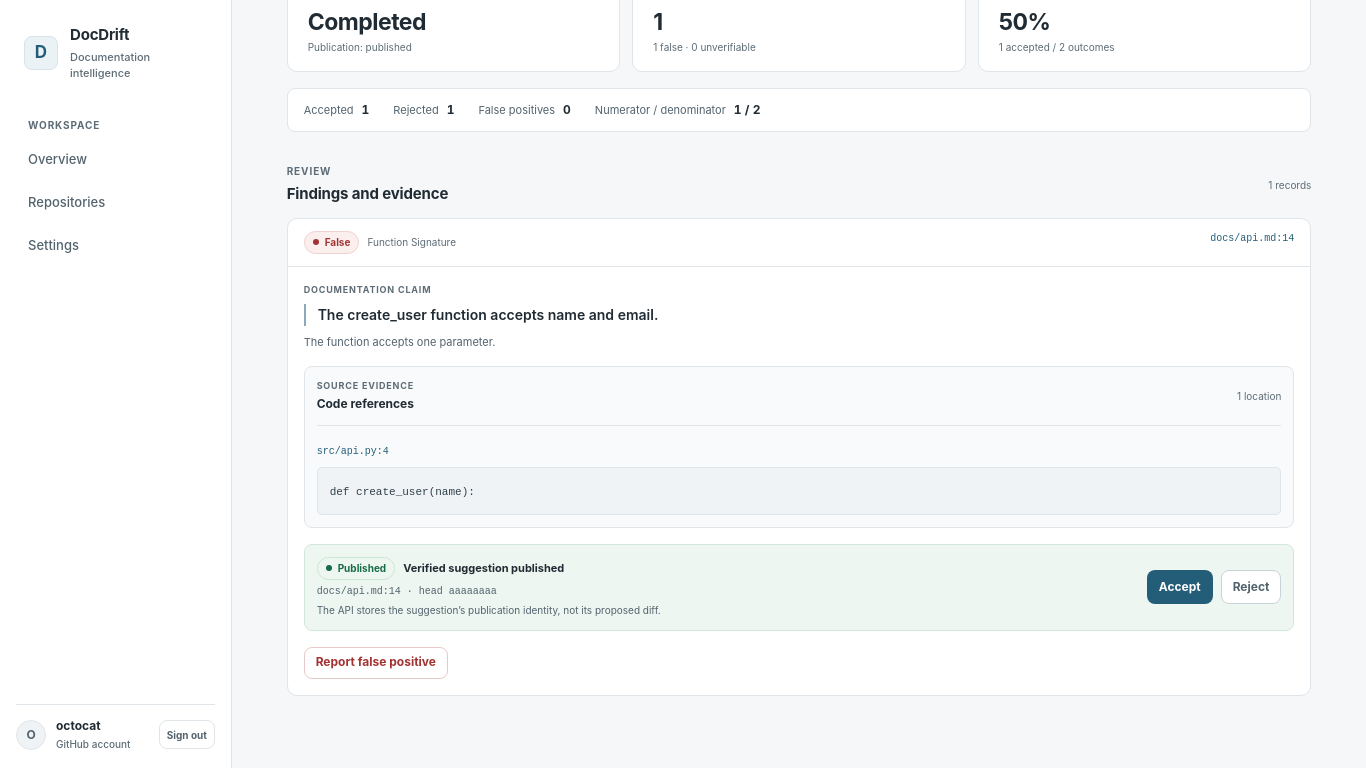
it: dashboard › submits rejection and false-positive feedback through their eligible controls
(page scrolled)
Click the button "Reject" at [1251, 587], box [1221,570,1281,604]
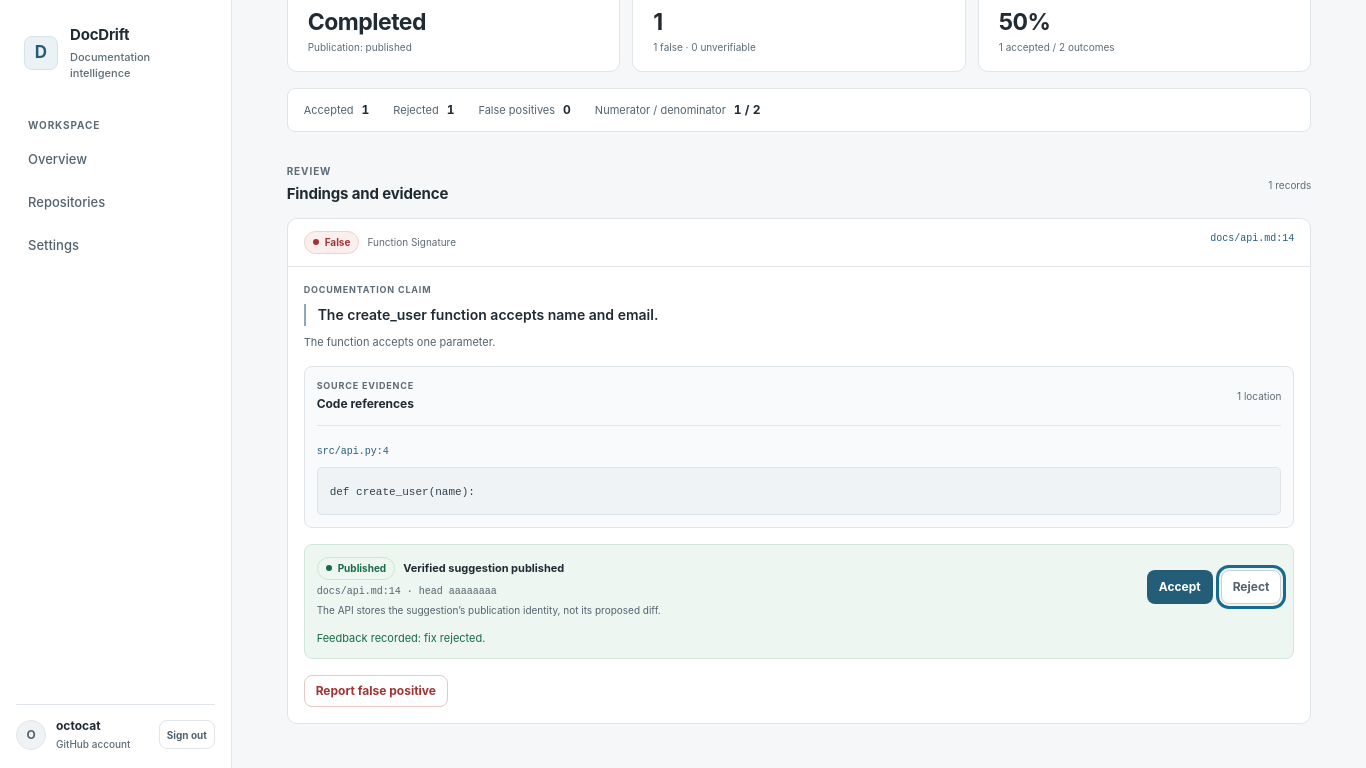
Expected: the text "Feedback recorded: fix rejected." is shown, [317,630,485,644]
Click the button "Report false positive" at [376, 691], box [304,675,448,707]
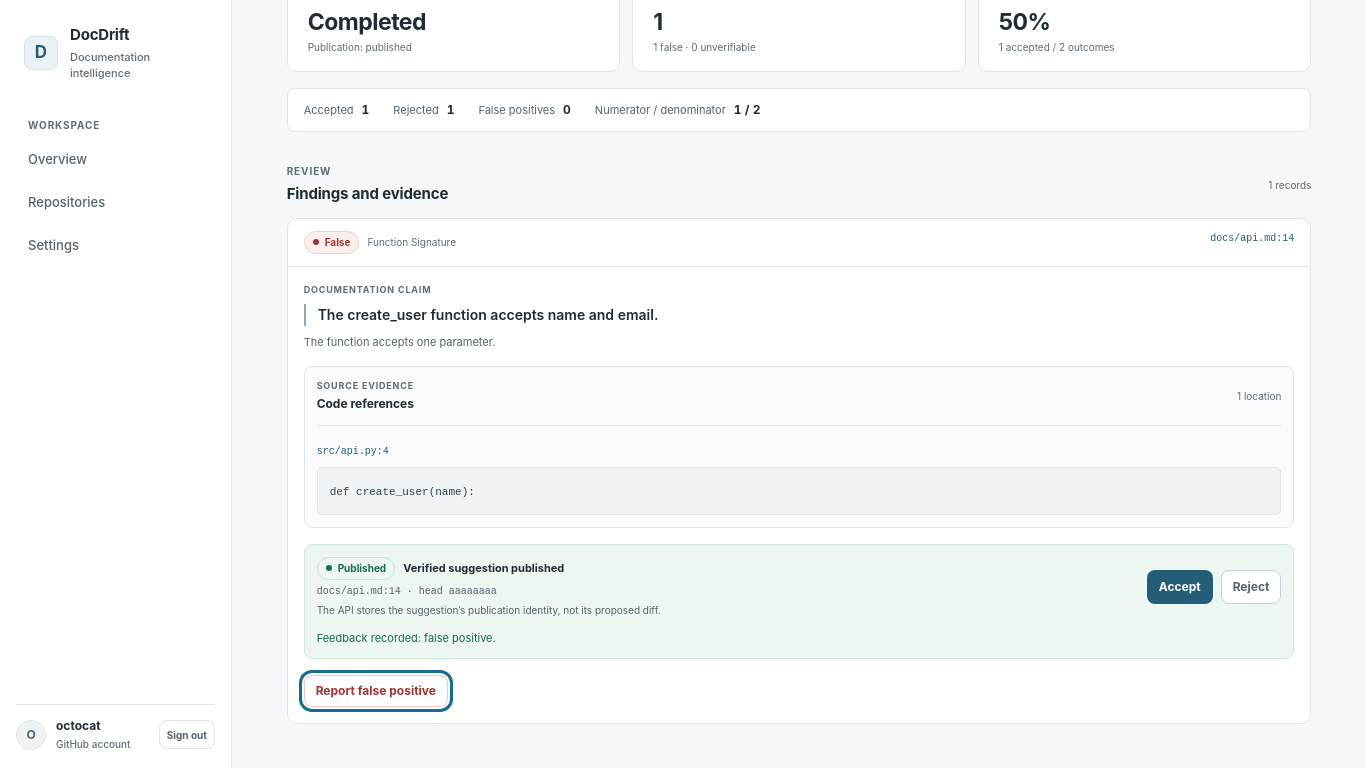
Expected: the text "Feedback recorded: false positive." is shown, [317,630,496,644]
